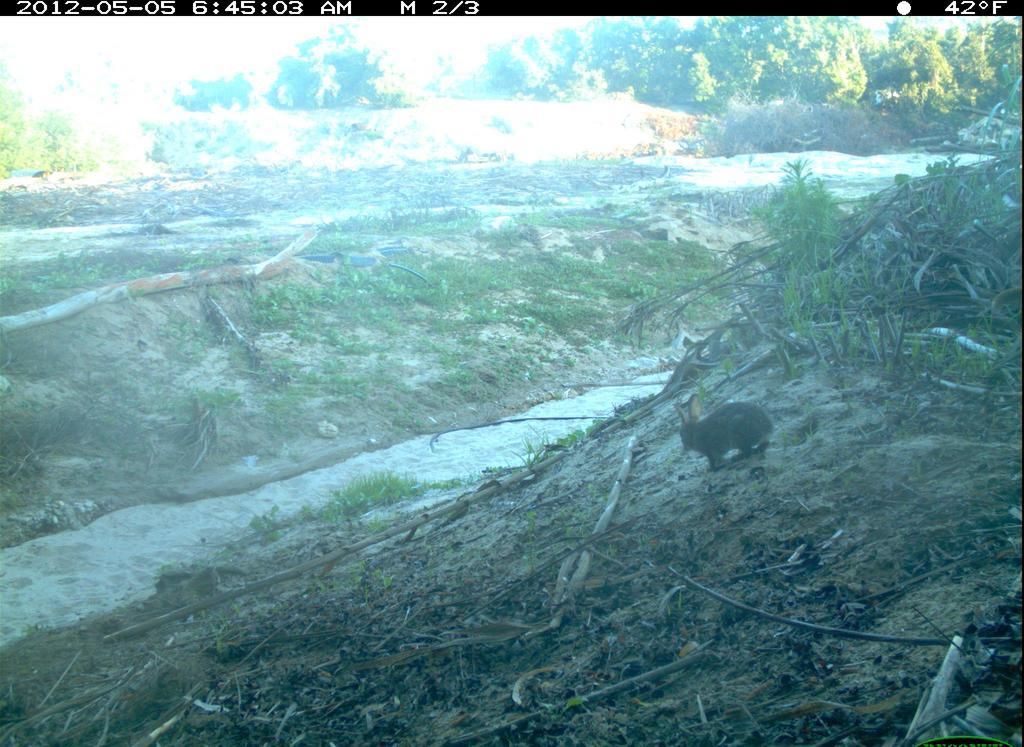rabbit: (655, 379, 799, 489)
